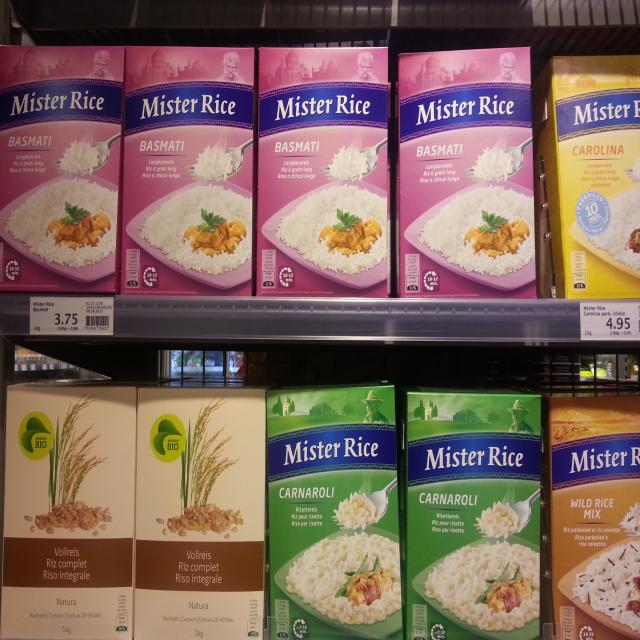Rice: (249, 52, 393, 304), (0, 380, 136, 640), (396, 47, 534, 300), (132, 388, 268, 640), (266, 386, 398, 640), (406, 392, 541, 640), (125, 49, 258, 293), (0, 45, 124, 293), (548, 56, 640, 296), (551, 398, 640, 640)
